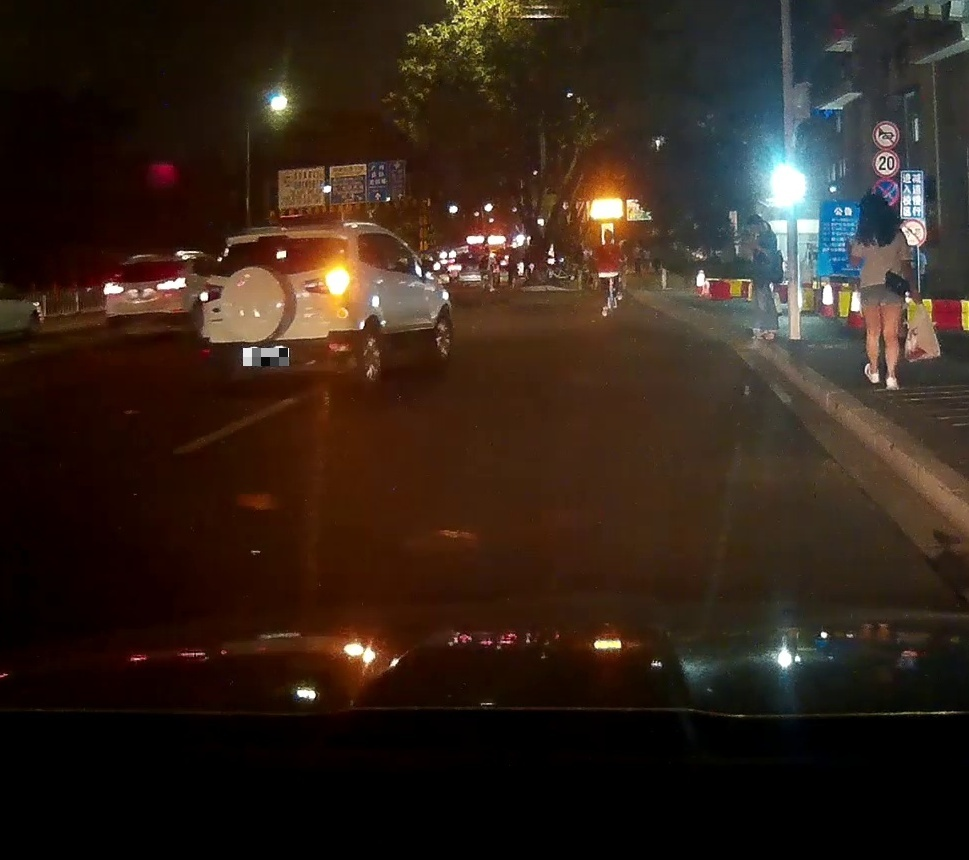L_light: (200, 282, 224, 303), (103, 282, 124, 295)
R_light: (305, 271, 349, 295), (157, 277, 187, 290)
T_light: (258, 235, 288, 243), (144, 261, 160, 265)
night-no: (102, 252, 192, 337)
night-right: (198, 221, 357, 387)
plate_1: (243, 348, 289, 366)
